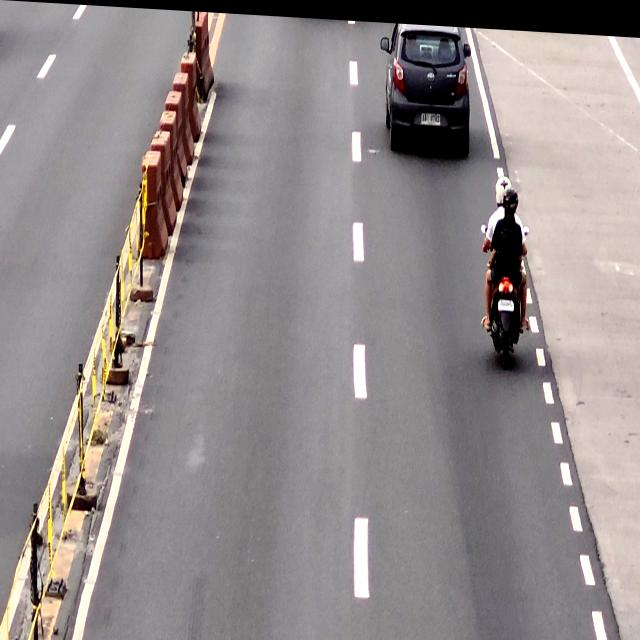Car: (380, 18, 474, 151)
License-Plate: (420, 106, 441, 121), (498, 292, 514, 308)
Motorcycle: (479, 209, 532, 367)
